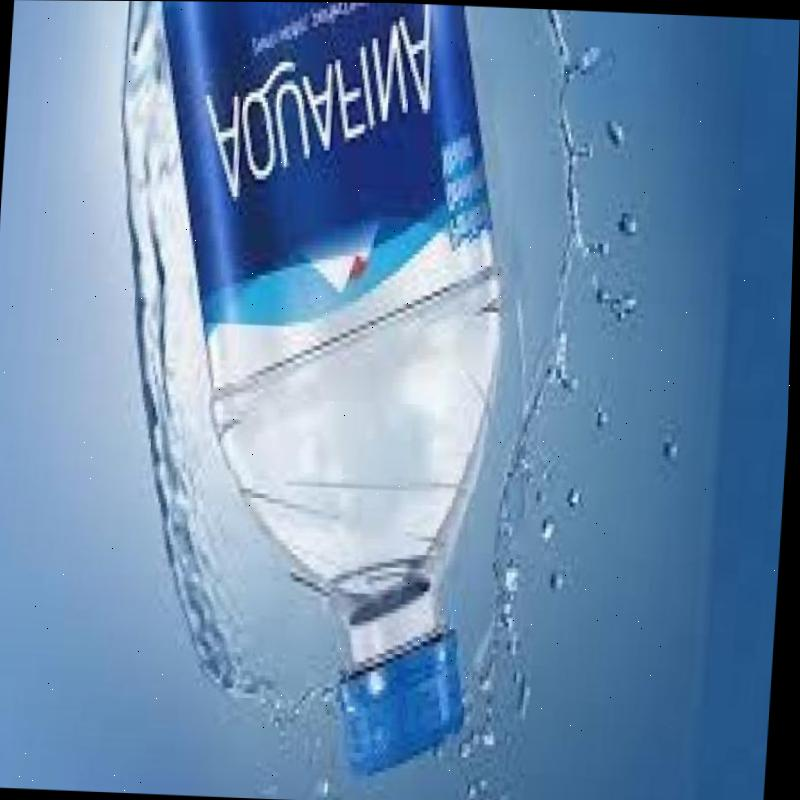botella: (115, 1, 526, 784)
